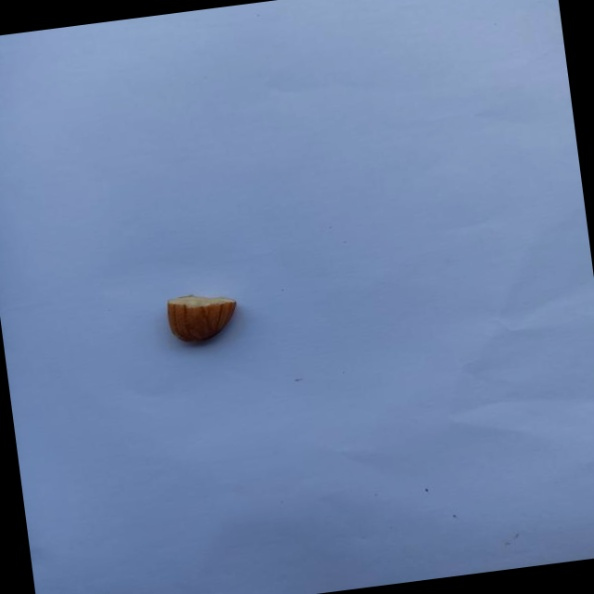grade4: (158, 285, 249, 353)
